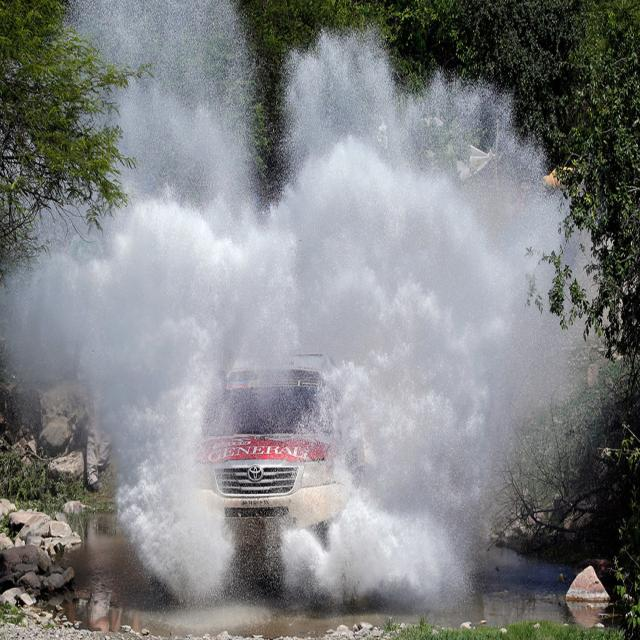car: (200, 355, 366, 570)
